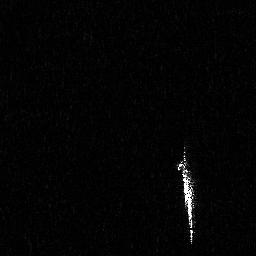ship: (173, 144, 202, 246)
